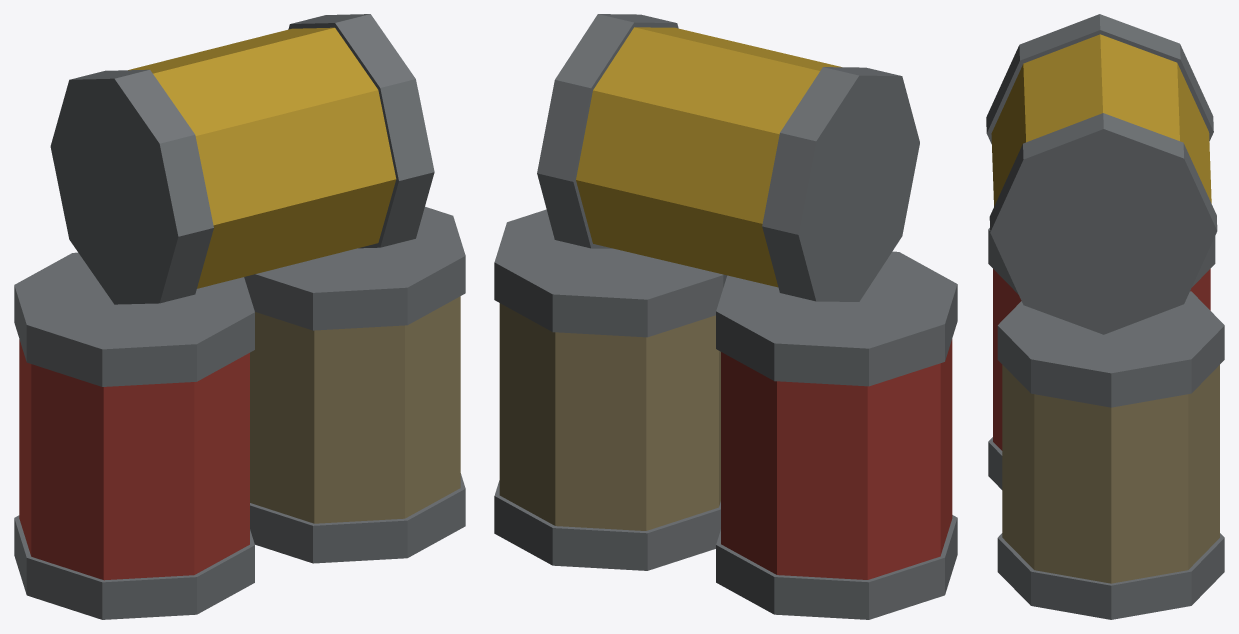
Rendered from item_canned_food.glb.
3 renders of one model, left to right at view 1: azimuth 30°, elevation 25°; view 2: azimuth 150°, elevation 25°; view 3: azimuth 270°, elevation 25°, orthographic. The views are drawn at different scales.
Parts seen in each view (by area): view 1: canned_food; view 2: canned_food; view 3: canned_food.
Boxes of the visible parts, box(x1,y1,x2,y2) form: canned_food: box(14, 14, 465, 619); canned_food: box(494, 14, 957, 619); canned_food: box(986, 14, 1224, 619).
Size of the model in its own units: 0.192 by 0.211 by 0.1009.
